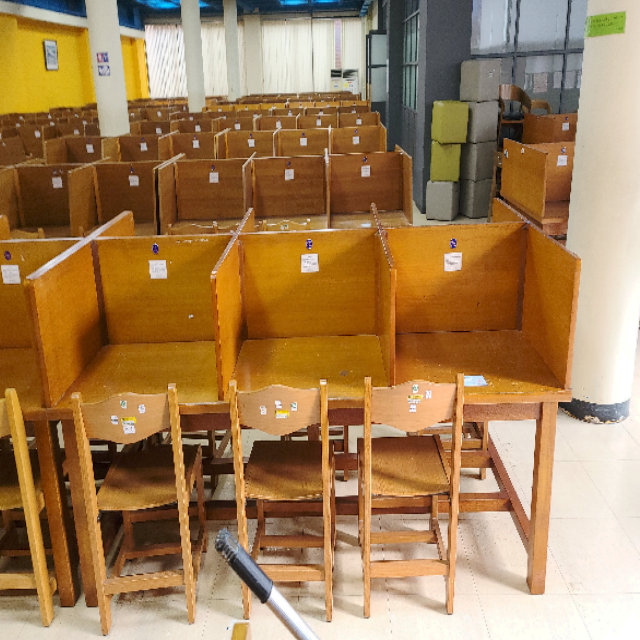empty: (42, 225, 218, 493), (226, 229, 395, 490), (403, 233, 574, 489)
